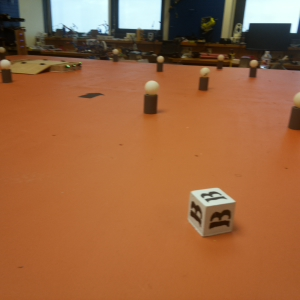obstacle: (283, 90, 300, 127), (143, 77, 159, 116), (198, 66, 212, 92), (246, 57, 262, 79), (1, 60, 13, 85), (215, 53, 227, 72), (154, 53, 165, 73), (110, 47, 120, 62)
side: (56, 63, 83, 71)
slope: (16, 61, 49, 76)
